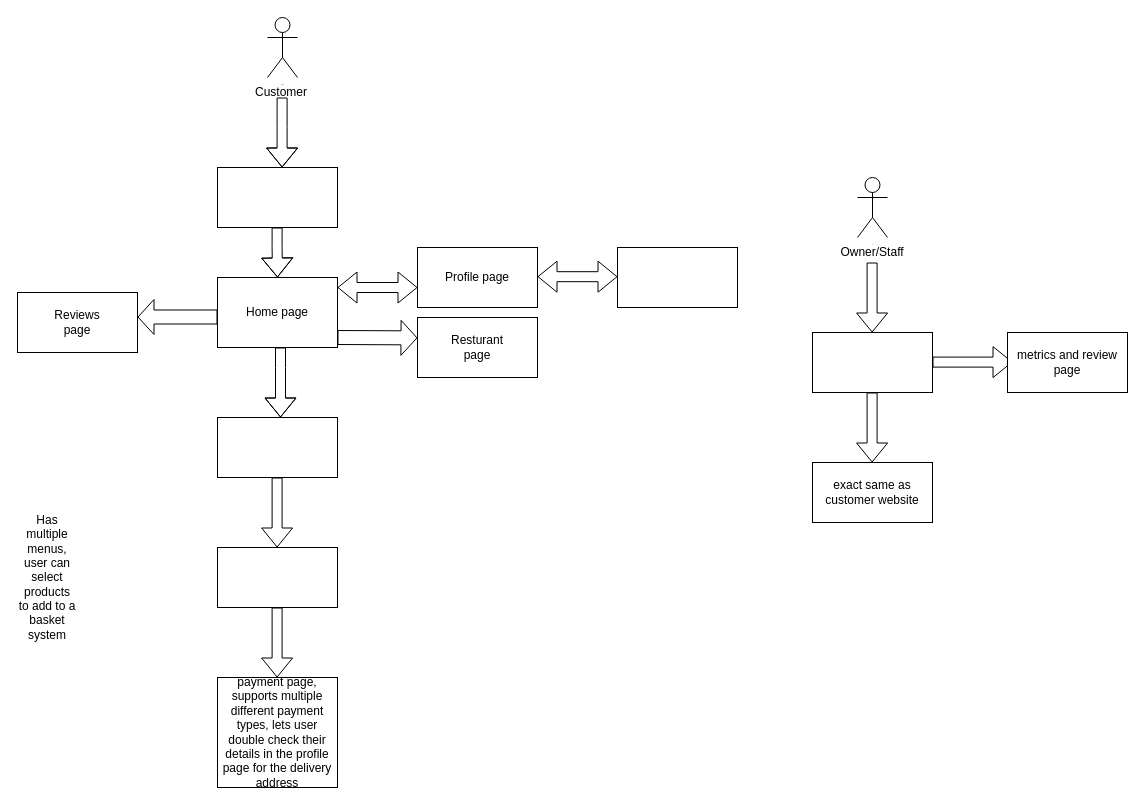
The diagram is 1145 pixels wide and 807 high, and some of its shapes have lost their labels. Each missing label, with the centre of its shape:
Login page (staff have elevated permissions): [872,362]
Login/Sign up page: [277,197]
Order overview (shows all producst in basket, with total cost): [277,577]
Orders page: [277,447]
Update user info page (passwords, email, delivery address): [677,277]
